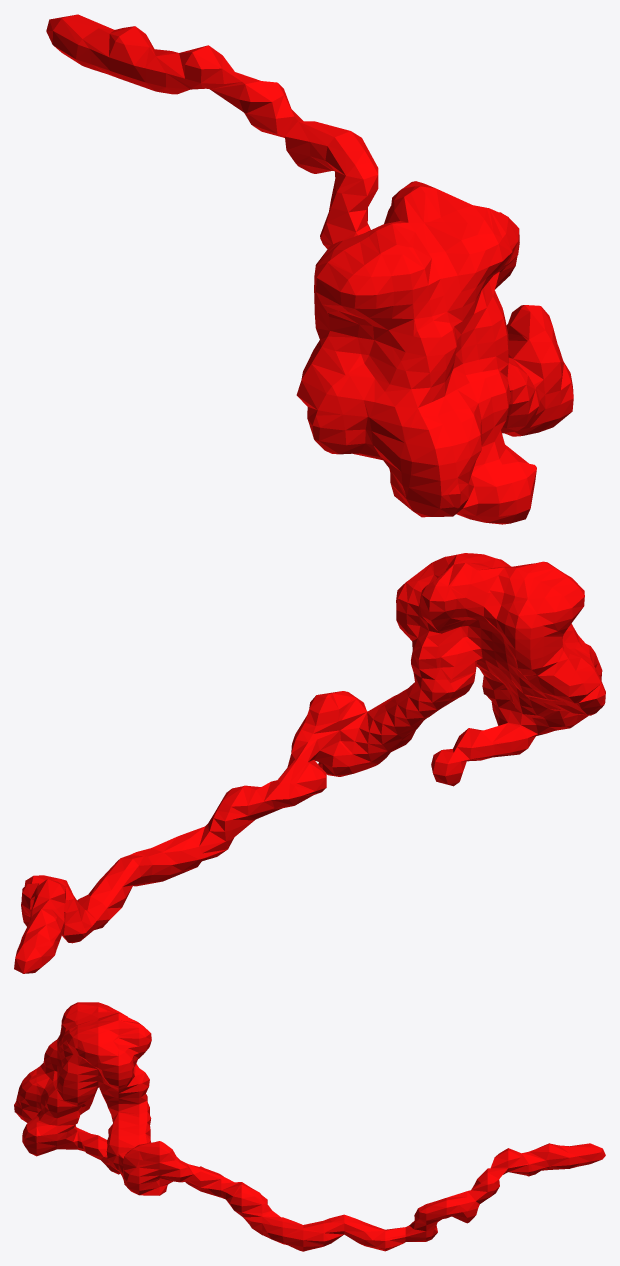
Rendered from proW_coarse.dae.
The picture shows the model from 3 angles, top to bottom: view 1: azimuth 30°, elevation 25°; view 2: azimuth 150°, elevation 25°; view 3: azimuth 270°, elevation 25°; orthographic projection. The views are drawn at different scales.
Parts seen in each view (by area): view 1: proW; view 2: proW; view 3: proW.
Part boxes in pixels (x1,y1,x2,y2): proW: [46, 14, 573, 524]; proW: [14, 553, 605, 973]; proW: [14, 1002, 605, 1251].
Bounding box in the file's own units: 96.92 × 79.23 × 237.
